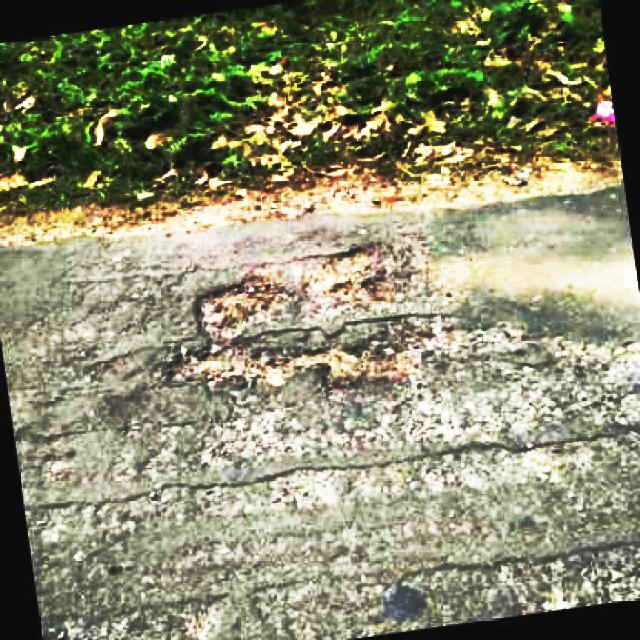pothole: (157, 240, 423, 385)
